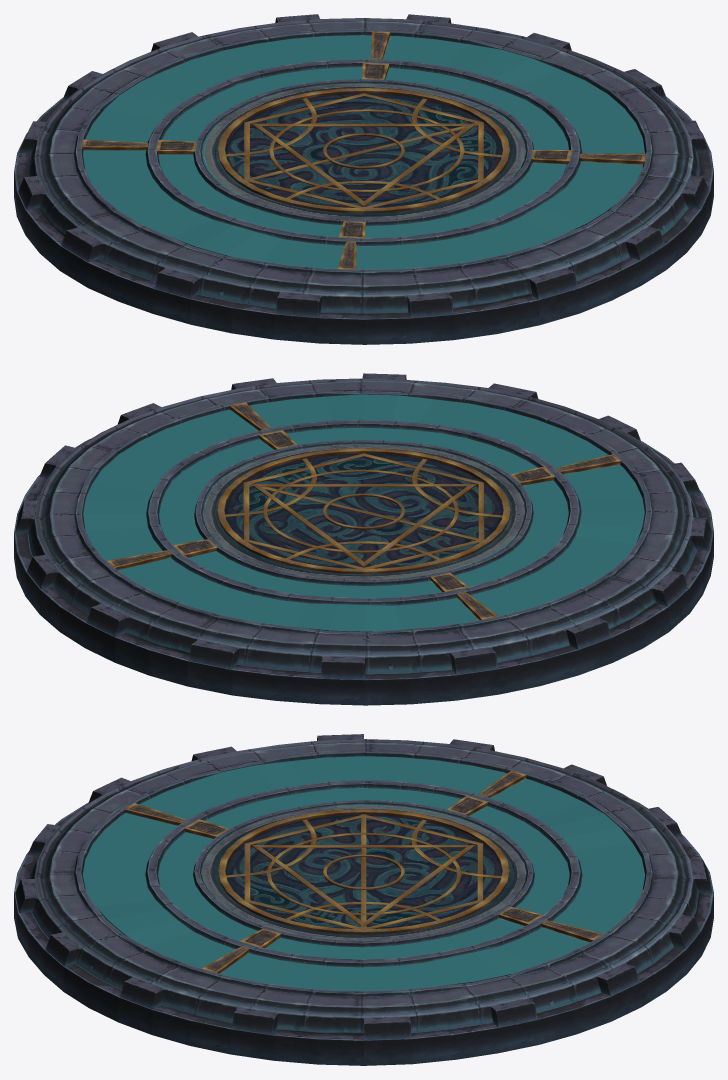
Rendered from zhanshitai2.FBX.
3 views of the same model, one above another, from view 1: azimuth 30°, elevation 25°; view 2: azimuth 150°, elevation 25°; view 3: azimuth 270°, elevation 25° (orthographic).
Parts seen in each view (by area): view 1: zhanshitai; view 2: zhanshitai; view 3: zhanshitai.
Boxes of the visible parts, <box> form: zhanshitai: <box>14,14,713,344</box>; zhanshitai: <box>14,373,713,705</box>; zhanshitai: <box>14,734,713,1065</box>.
Size of the model in its own units: 2.18 by 0.1626 by 2.18.
